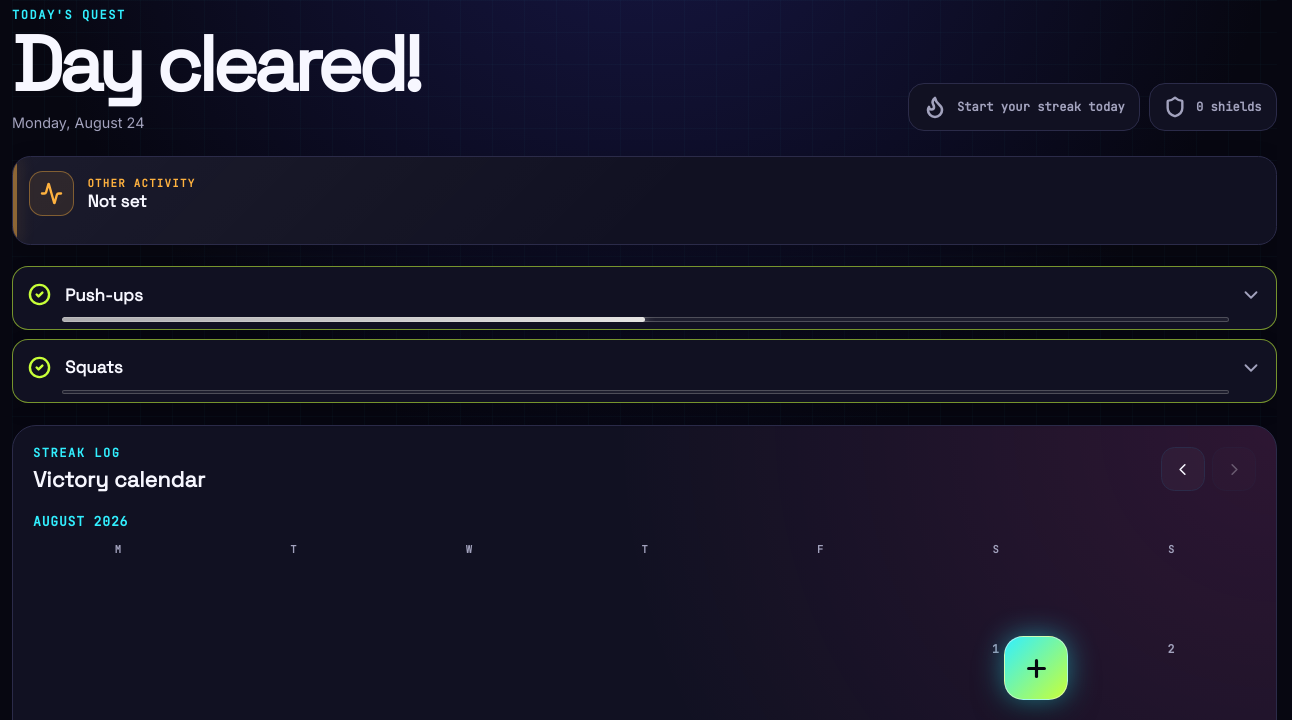
today’s arcade training dashboard › keeps a newly level-up-ready quest in place until the athlete collapses it
The width and height of the screenshot is (1292, 720).
Click the button with test id "exercise-toggle-push-ups".
click(104, 295)  # box x1=12 y1=266 x2=1277 y2=330
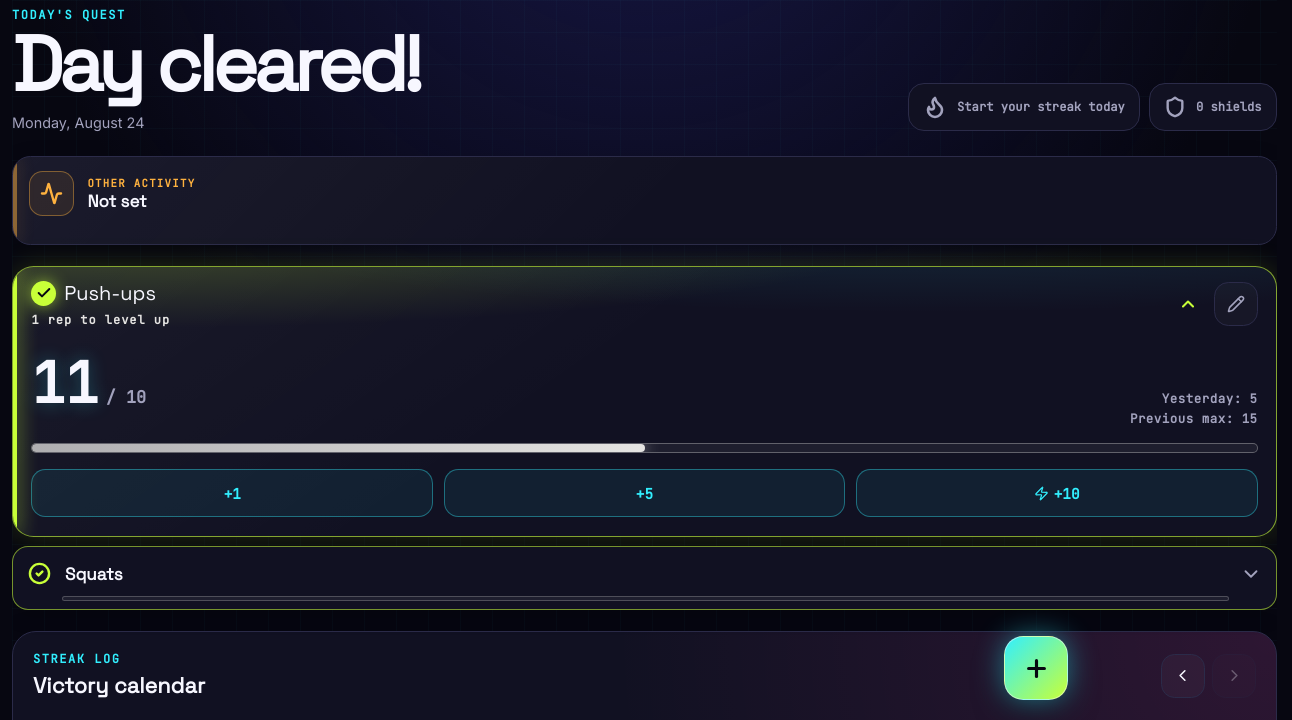
Click the button named "Add 1 rep to Push-ups".
click(232, 493)  # box x1=31 y1=469 x2=433 y2=517
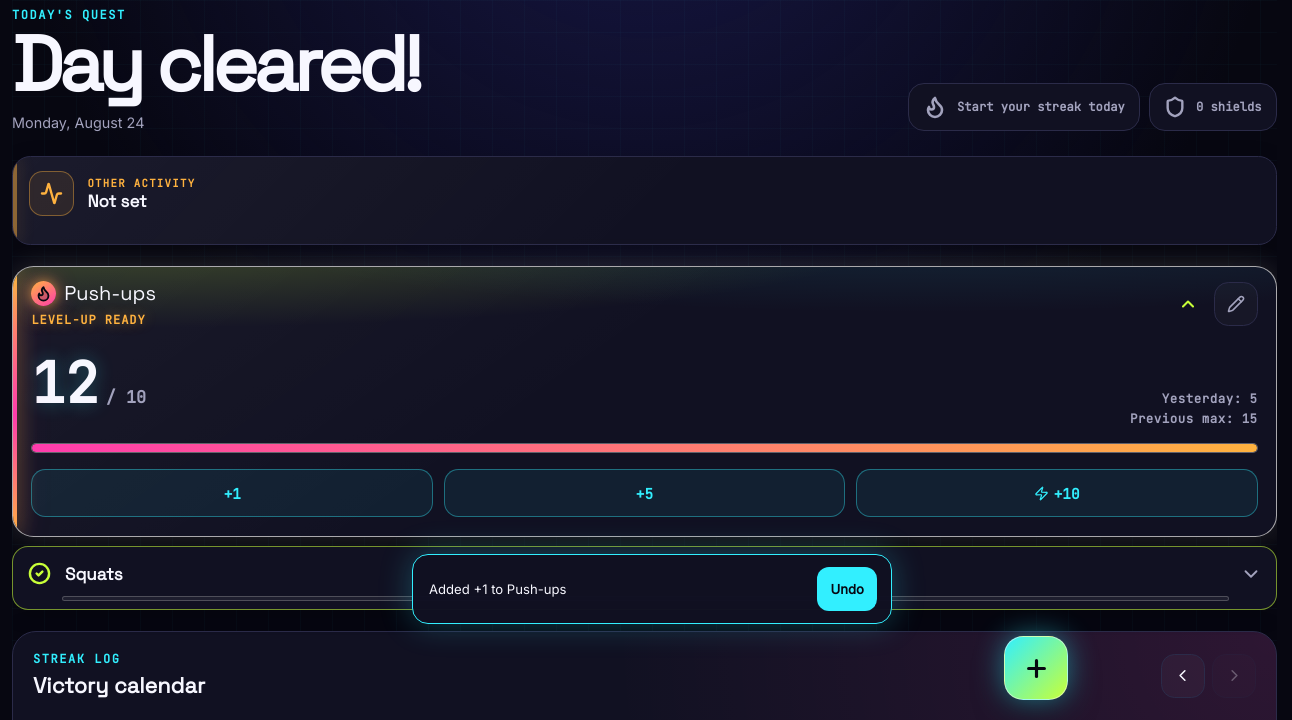
Check: the element with test id "exercise-card-push-ups" is shown, box x1=12 y1=266 x2=1277 y2=537
Check: the text "LEVEL-UP READY" is shown, box x1=31 y1=312 x2=146 y2=328
Click the button with test id "exercise-collapse-push-ups".
click(110, 293)  # box x1=13 y1=267 x2=1276 y2=342
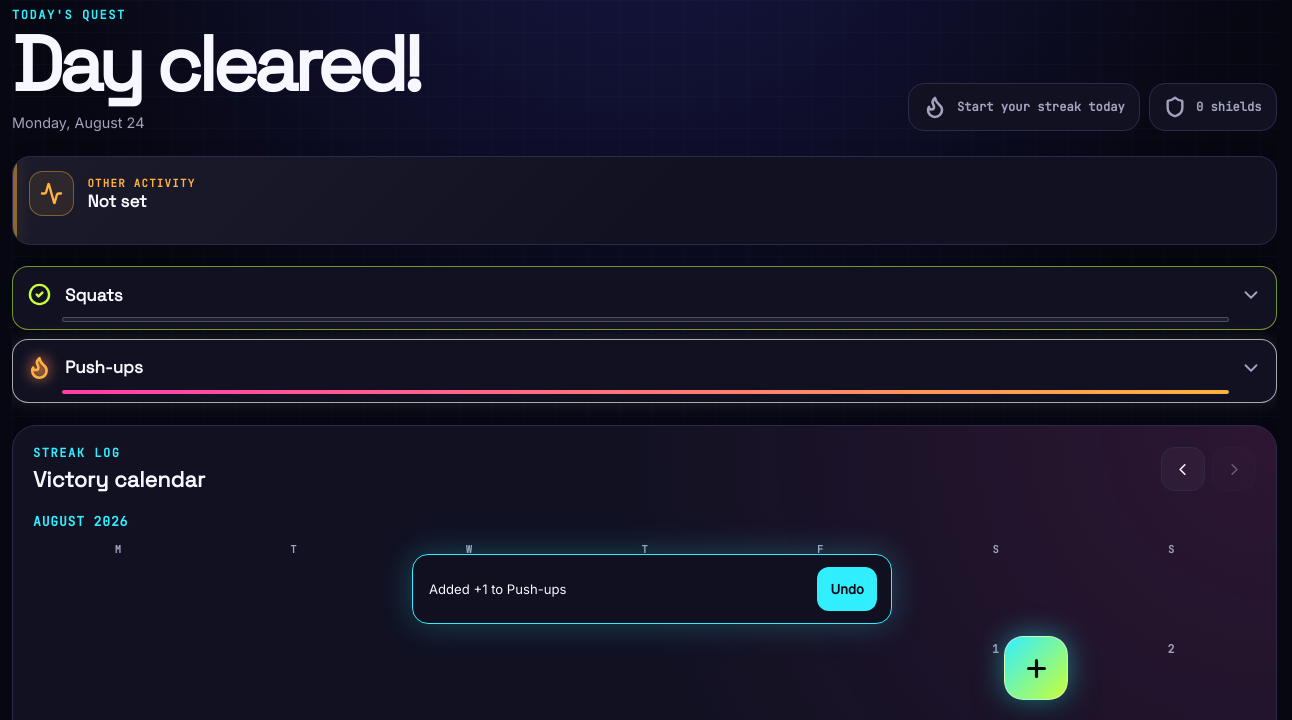
Check: no elements with class "exercise-card" are shown
